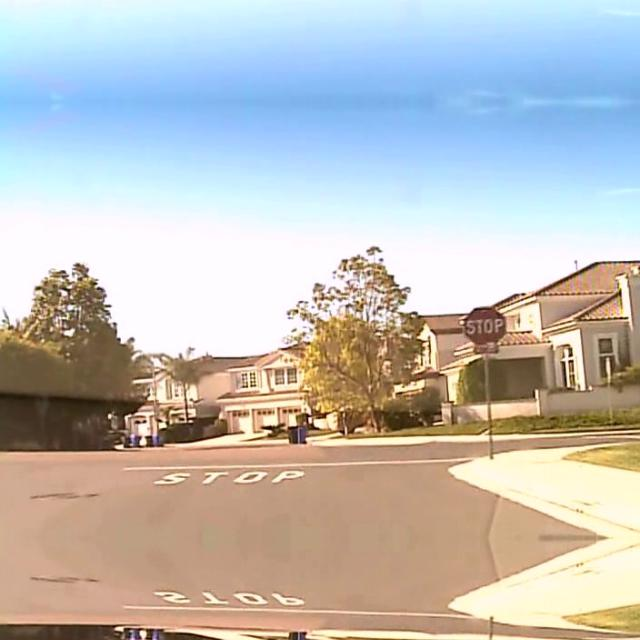stop: (464, 306, 506, 344)
